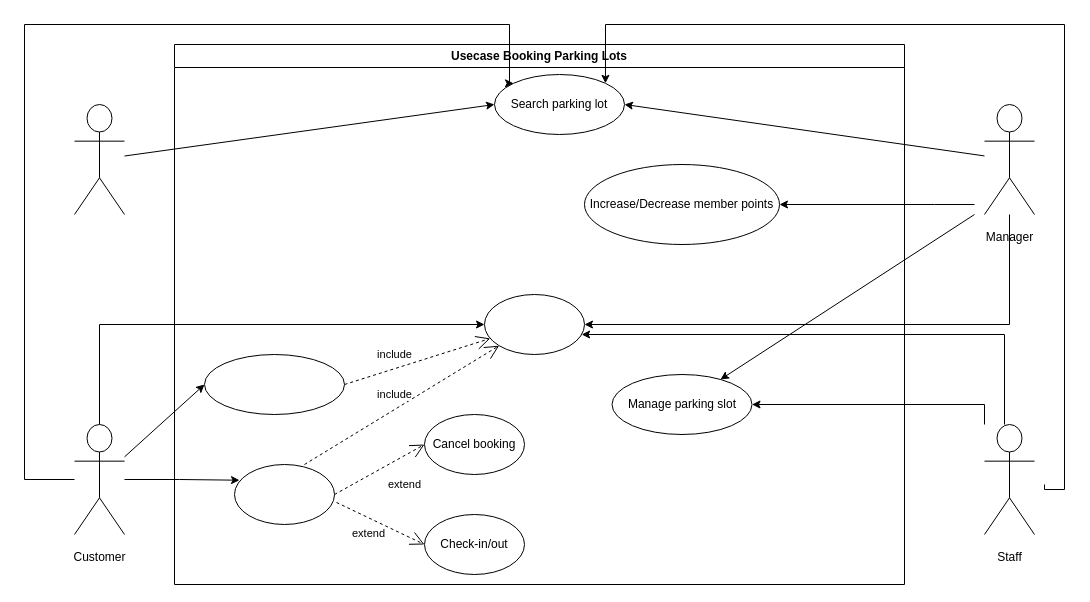
This 1090x602 diagram has some shape labels left out. The centre of each missing label's shape, as x and y in pixels:
"Book parking lot" belongs at pixel 284 494.
"Guest" belongs at pixel 99 159.
"Login" belongs at pixel 534 324.
"View booked history" belongs at pixel 274 384.
